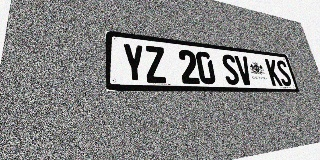0: (195, 51, 216, 84)
2: (178, 49, 200, 84)
K: (265, 59, 283, 86)
S: (220, 54, 241, 85), (275, 60, 293, 86)
V: (234, 55, 254, 85)
Y: (122, 43, 146, 83)
Z: (144, 45, 168, 83)
